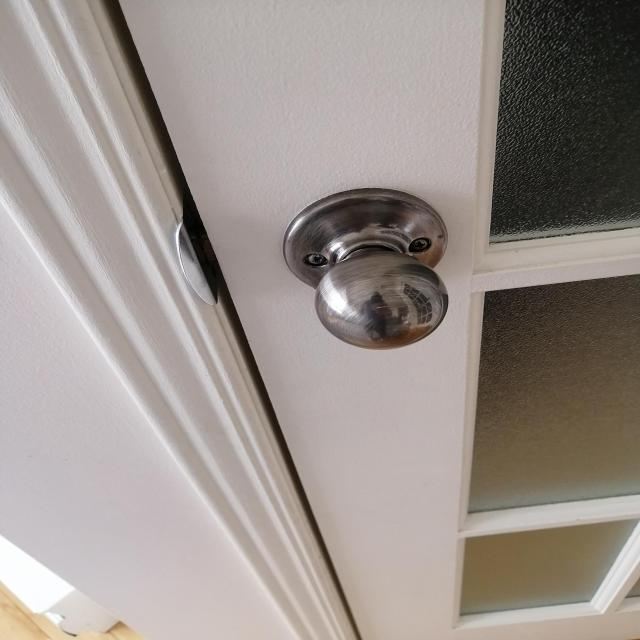door-knob: (283, 188, 448, 349)
